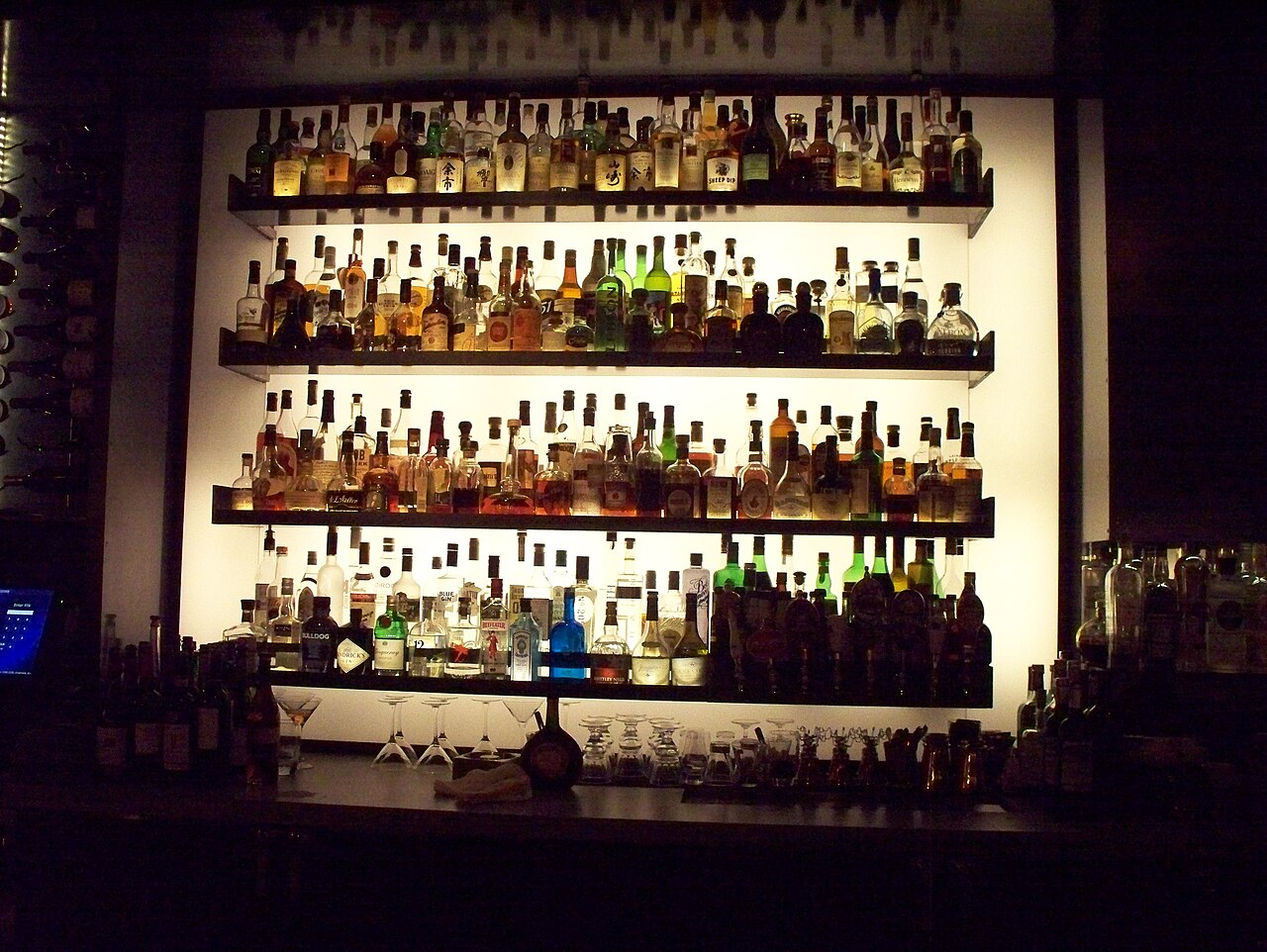unknown_bottle: (595, 239, 632, 353), (630, 589, 670, 687), (480, 556, 510, 672), (663, 436, 701, 521), (510, 251, 542, 351), (633, 414, 664, 516), (362, 430, 399, 513), (508, 594, 541, 681)
